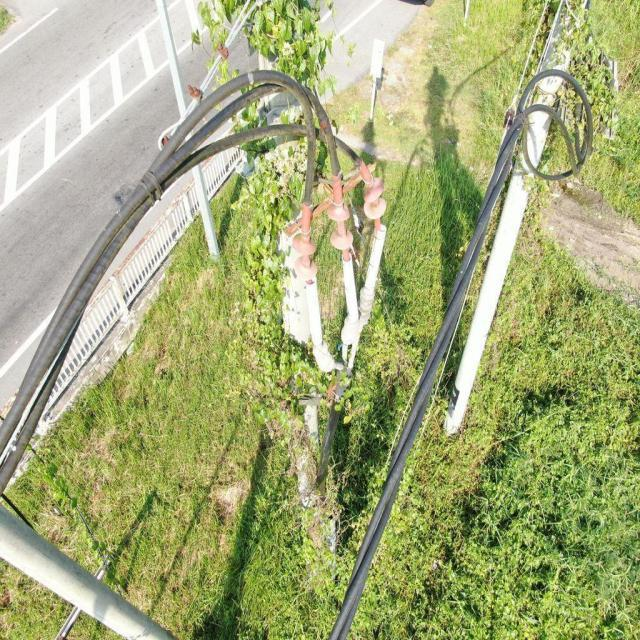critical vegetation: (190, 1, 361, 551)
